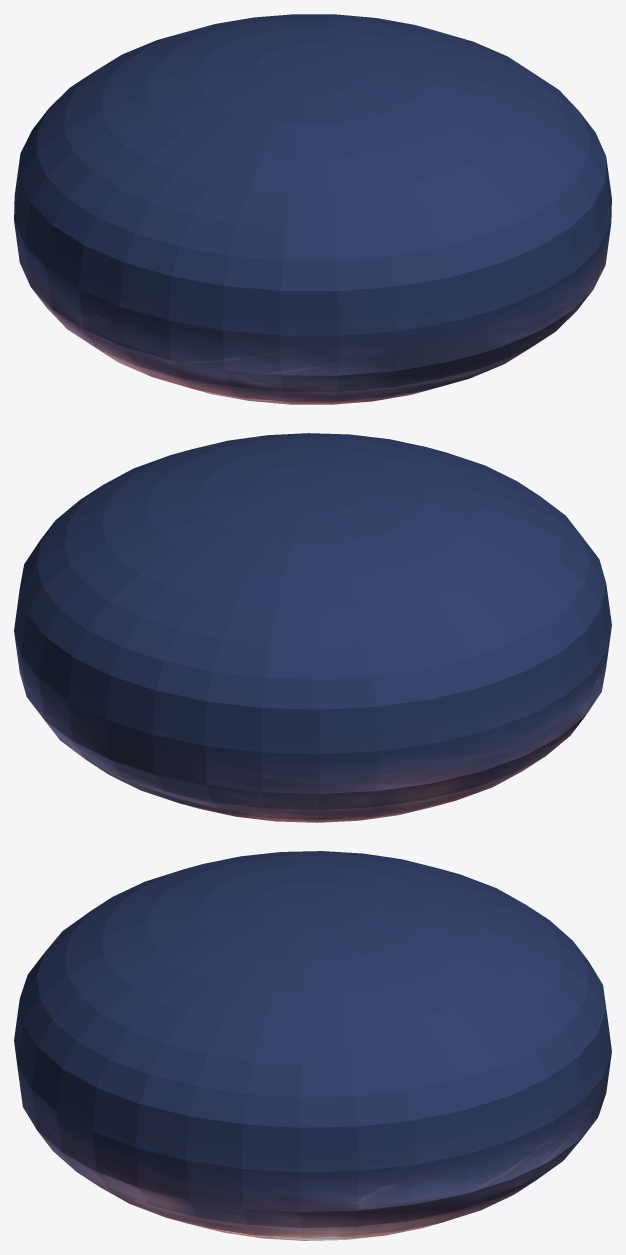
The model's file is town_sky.fbx.
3 views of the same model, one above another, from view 1: azimuth 30°, elevation 25°; view 2: azimuth 150°, elevation 25°; view 3: azimuth 270°, elevation 25° (orthographic).
Parts seen in each view (by area): view 1: obj0; view 2: obj0; view 3: obj0.
Part boxes in pixels (<box>): obj0: <box>14,14,611,404</box>; obj0: <box>14,433,611,822</box>; obj0: <box>14,851,611,1240</box>.
Size of the model in its own units: 24.12 by 12.63 by 24.12.
